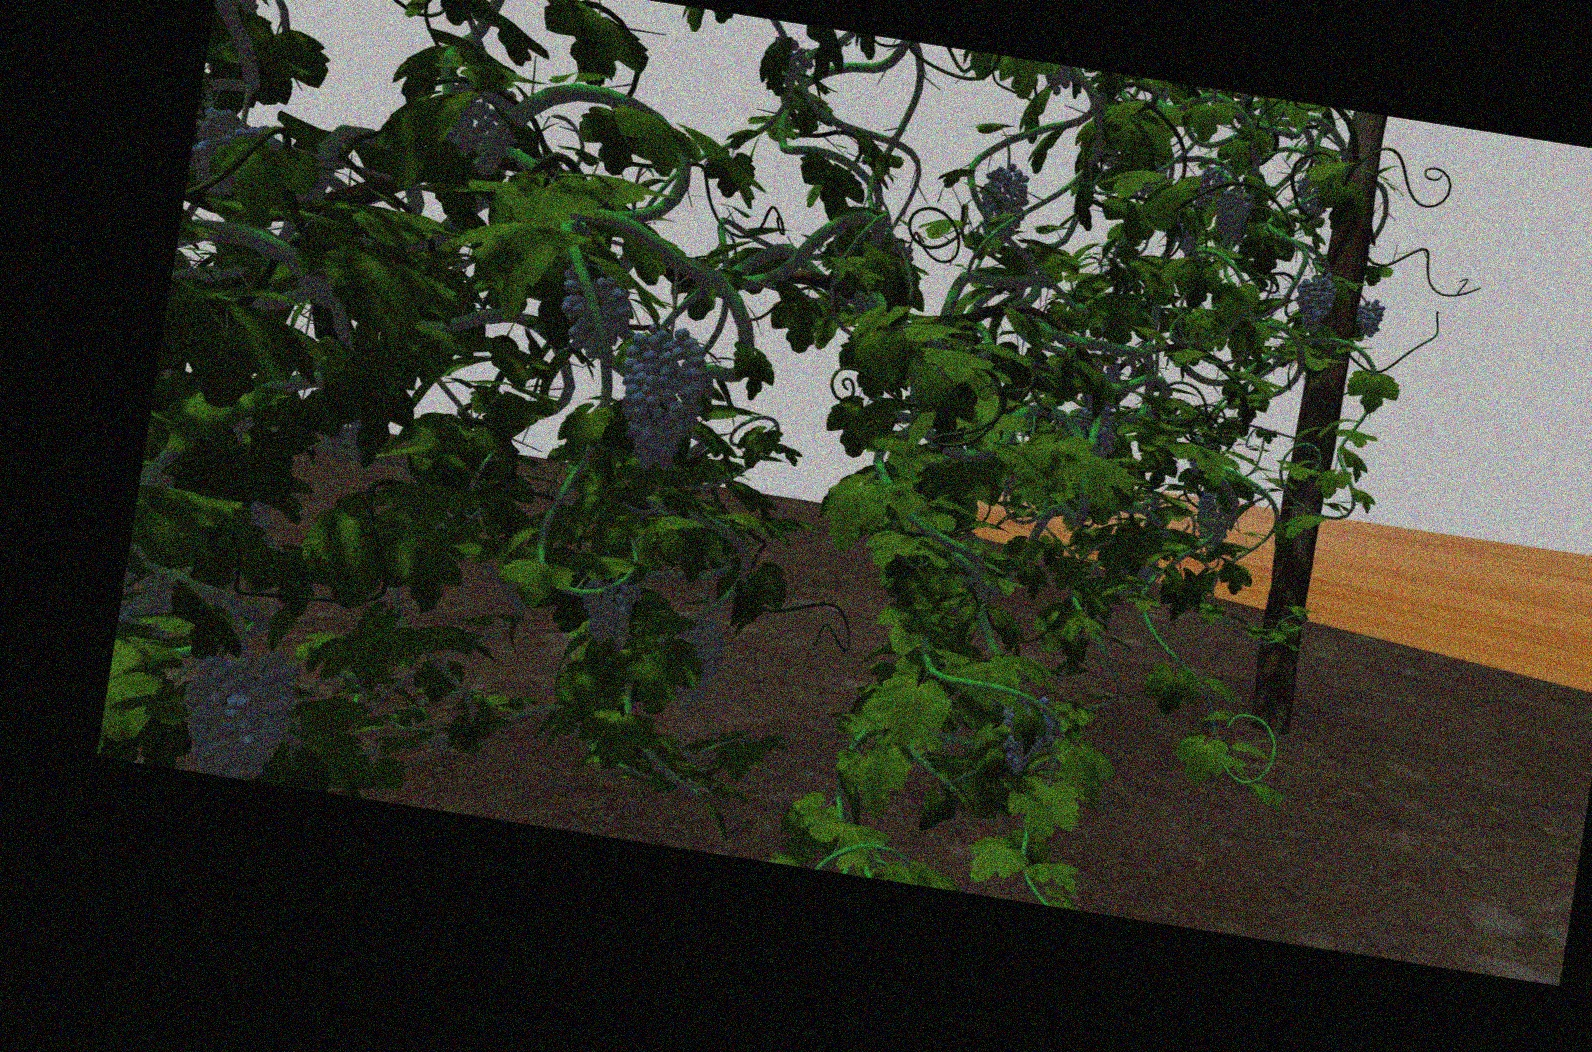grape: (181, 650, 299, 769), (621, 328, 702, 467), (558, 270, 630, 356), (667, 615, 723, 719), (579, 574, 639, 648), (978, 162, 1030, 237), (1290, 274, 1337, 331), (1213, 190, 1255, 247), (1195, 493, 1234, 551), (1352, 297, 1388, 348)
